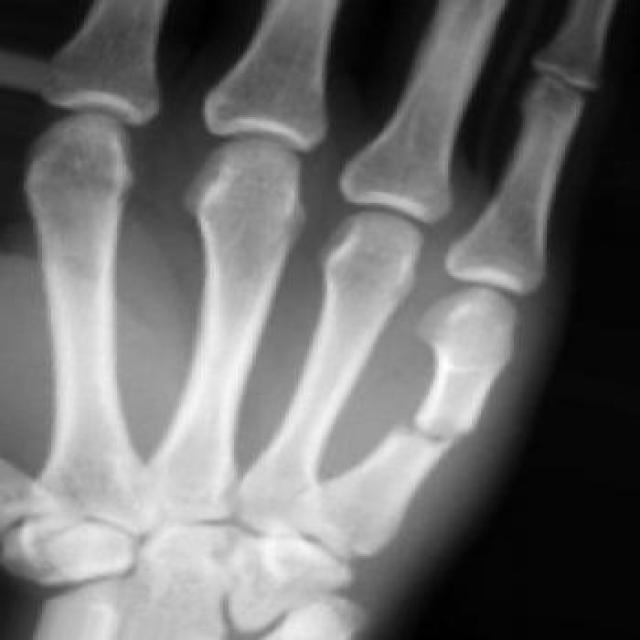Fracture: (384, 406, 492, 457)
